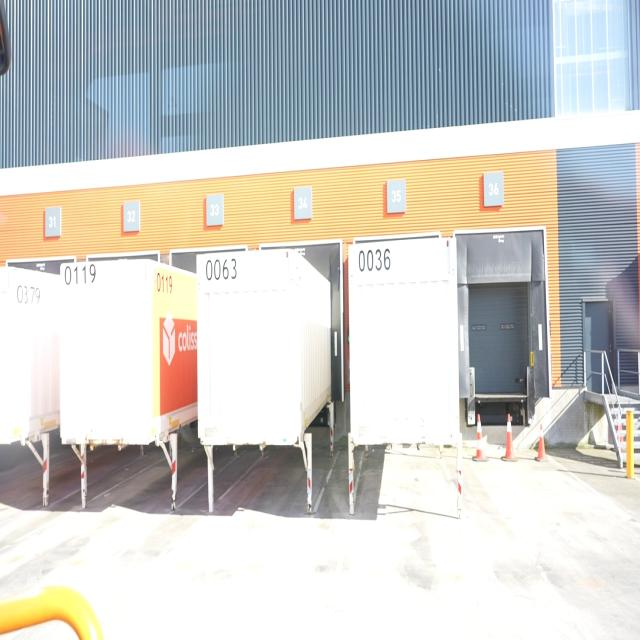Code: (202, 253, 244, 285), (353, 246, 391, 278), (63, 261, 98, 289), (13, 278, 42, 306), (154, 268, 174, 298)
